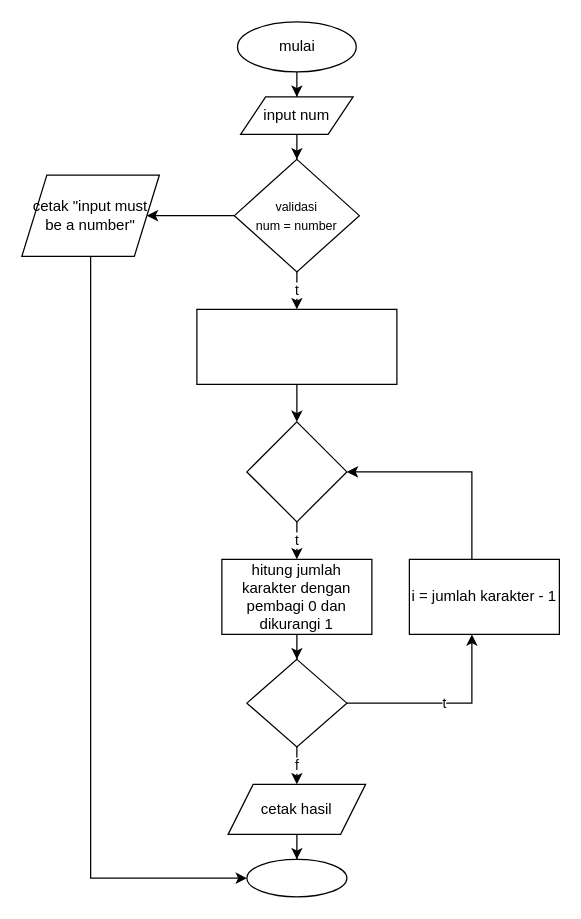
Image size: 581x919. Some labels were removed from this diagram. The shapes that lost their labels are listed below. From the top down, each one's centre as x and y in pixels, then its label:
the point at 296,346: konversi dari type data number ke string dan pisahkan dengan 0
the point at 296,471: newStr (penampung)
the point at 296,702: true?
the point at 296,877: selesai
